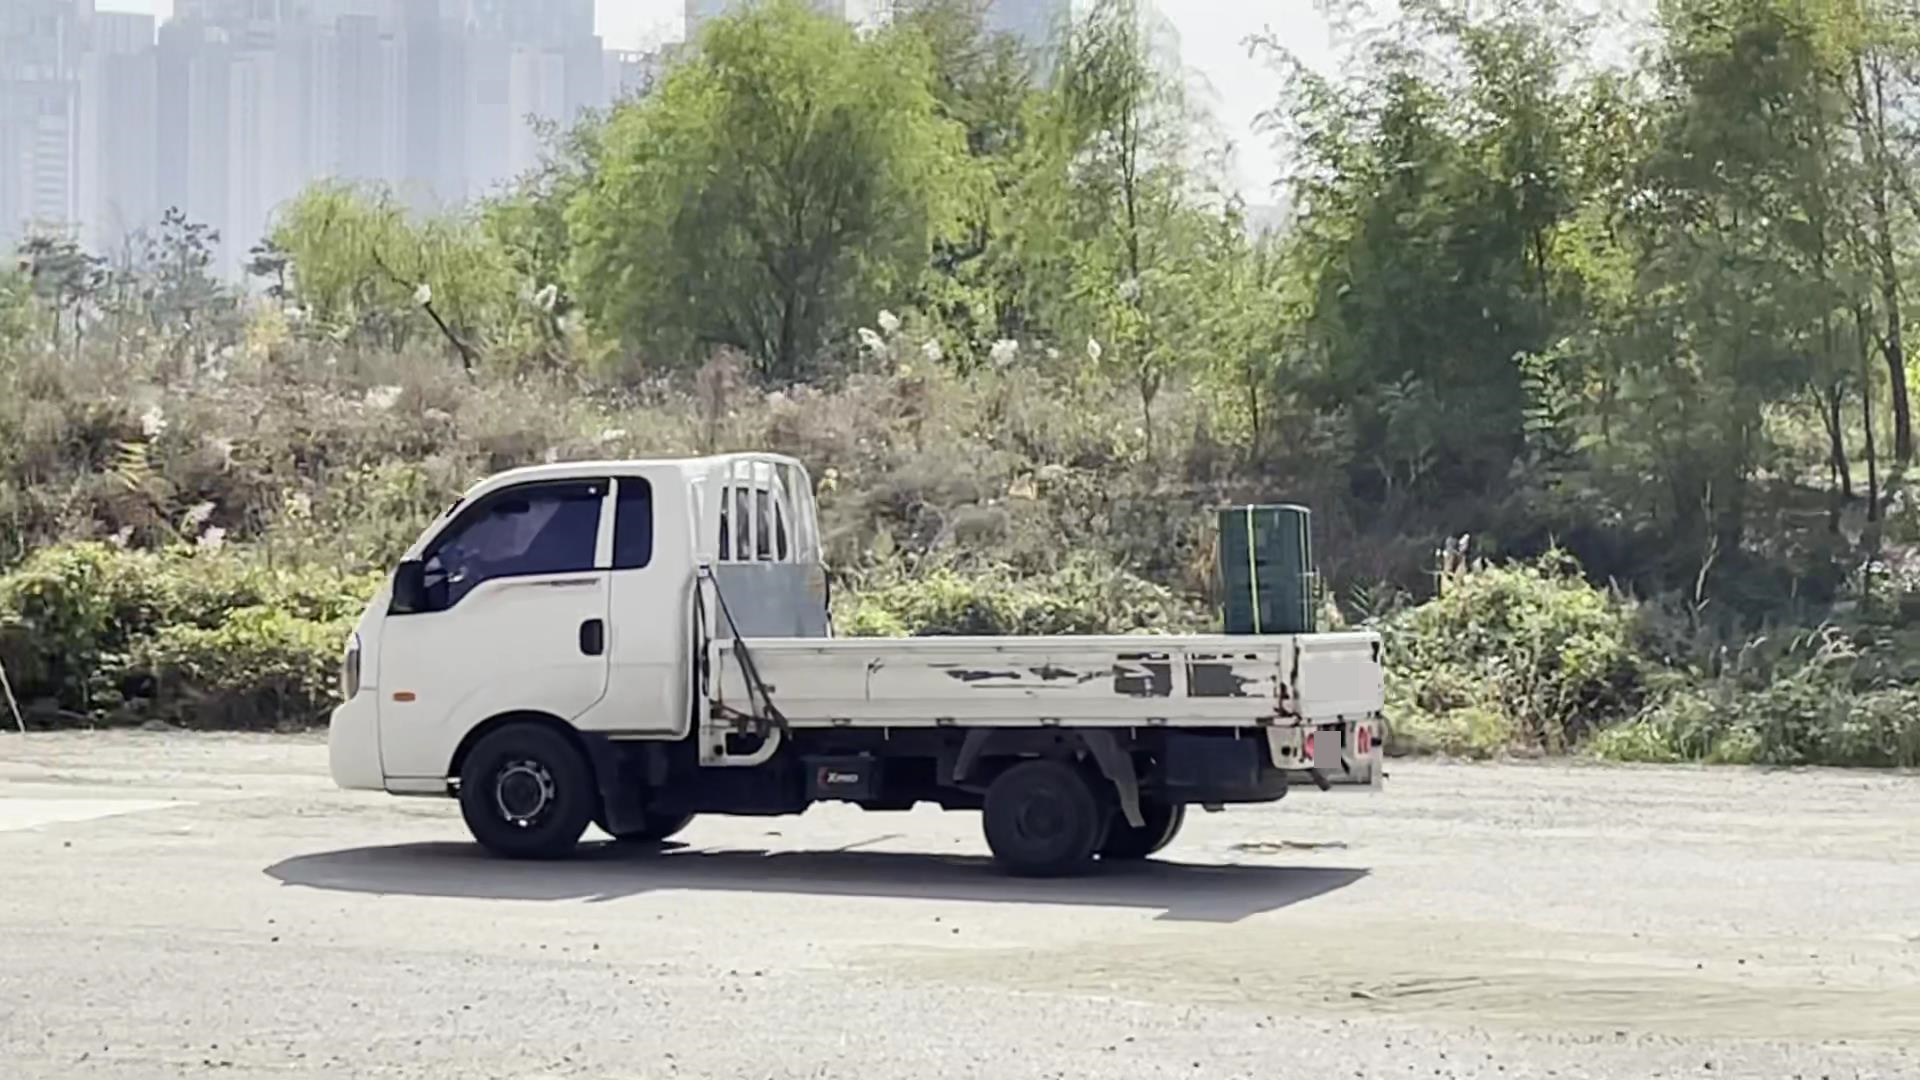불법차량: (330, 452, 1389, 877)
